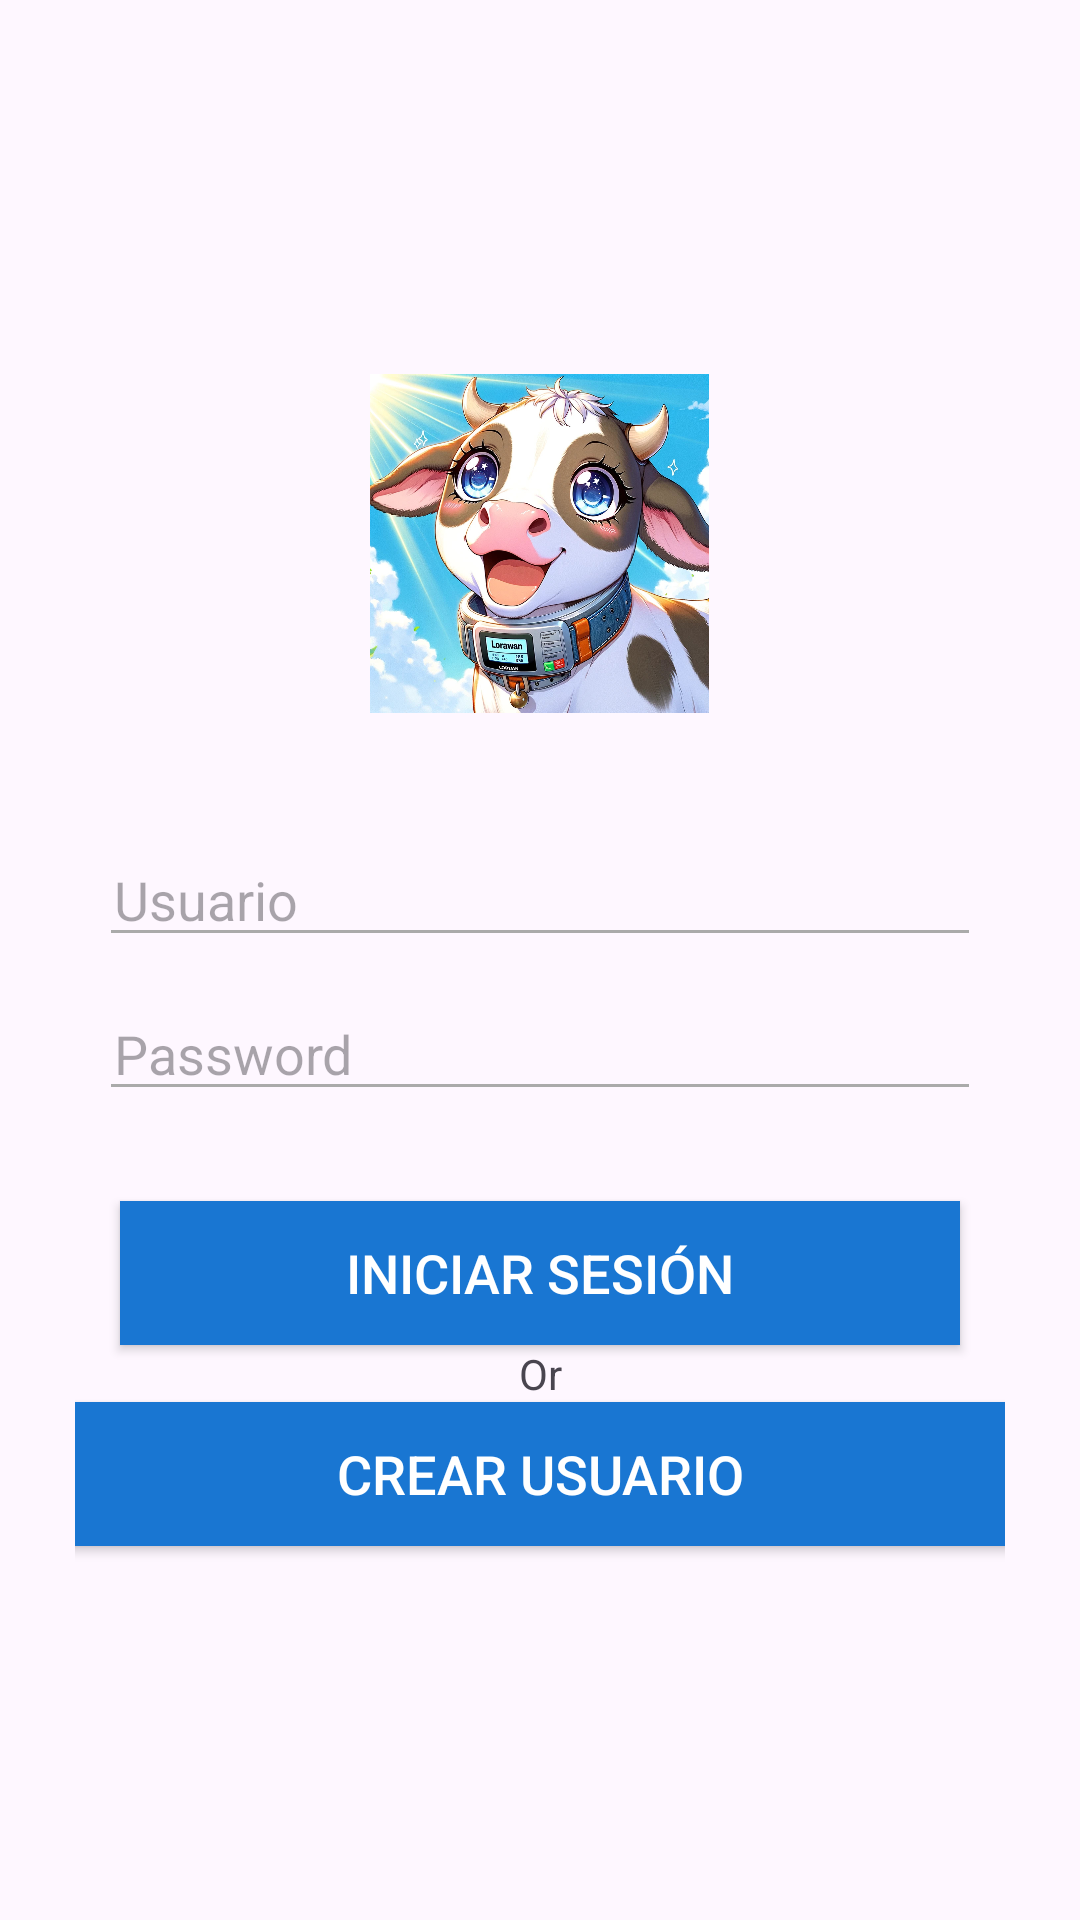

Screen size 1080x1920. Icon name, then its box in pixels as (x1, y1, x2, y2):
vaquita: (370, 374, 709, 713)
